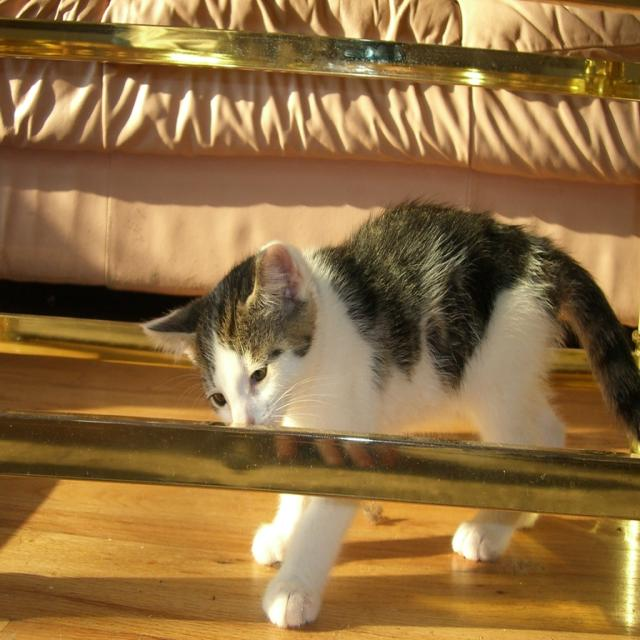Cat: (141, 197, 639, 625)
